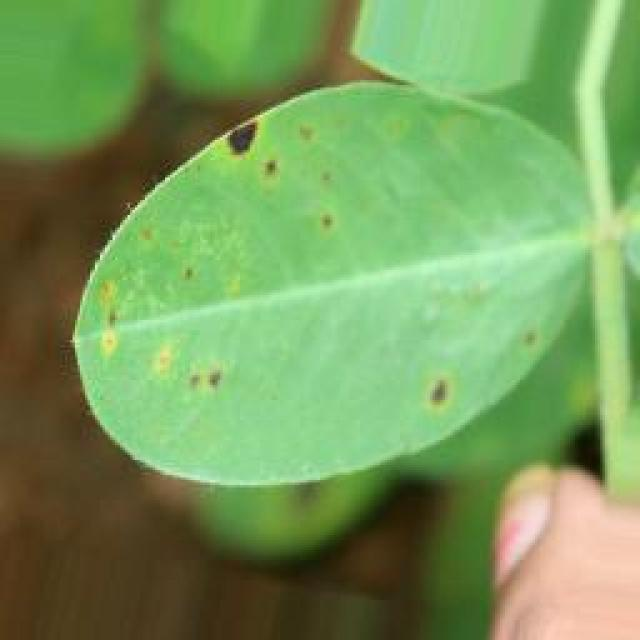Sigatoka: (275, 162, 360, 285), (144, 324, 247, 415), (207, 94, 293, 194), (502, 308, 568, 414), (91, 278, 136, 391), (154, 243, 212, 305), (406, 368, 463, 427), (121, 218, 167, 275)
